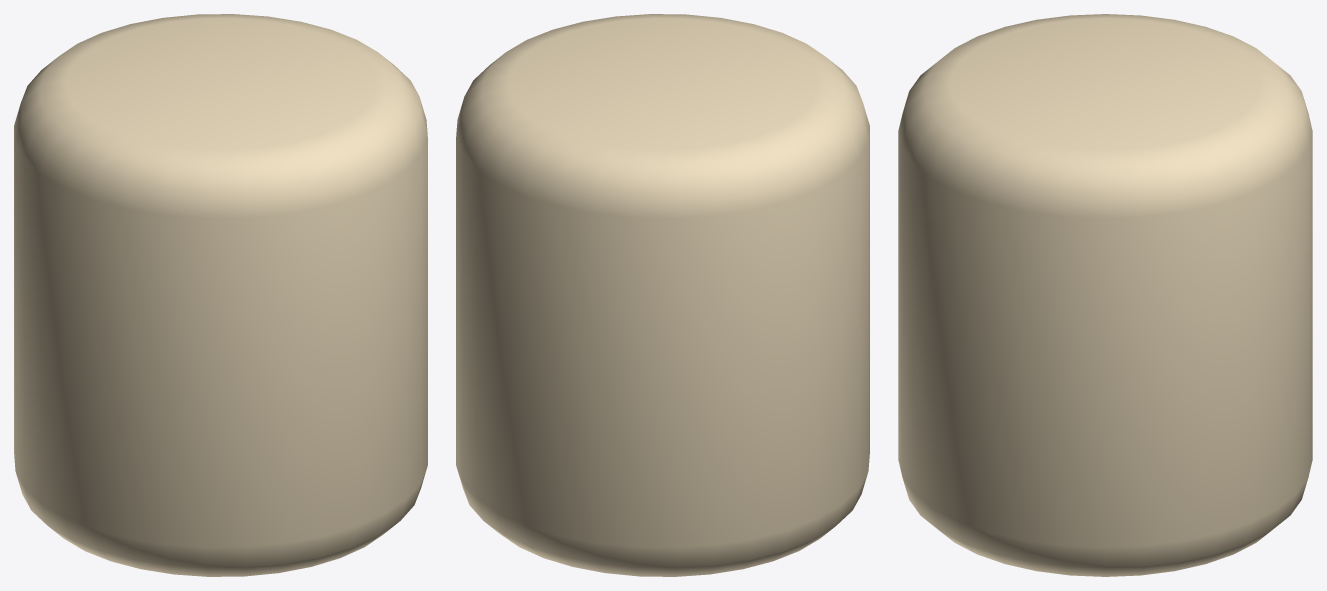
File: cup.glb
3 renders of one model, left to right at view 1: azimuth 30°, elevation 25°; view 2: azimuth 150°, elevation 25°; view 3: azimuth 270°, elevation 25°, orthographic.
Parts seen in each view (by area): view 1: cup; view 2: cup; view 3: cup.
Part boxes in pixels (left/top/right/bottom): cup: left=14, top=14, right=427, bottom=576; cup: left=456, top=14, right=869, bottom=576; cup: left=898, top=14, right=1312, bottom=576.
Size of the model in its own units: 0.08 by 0.09 by 0.08.
